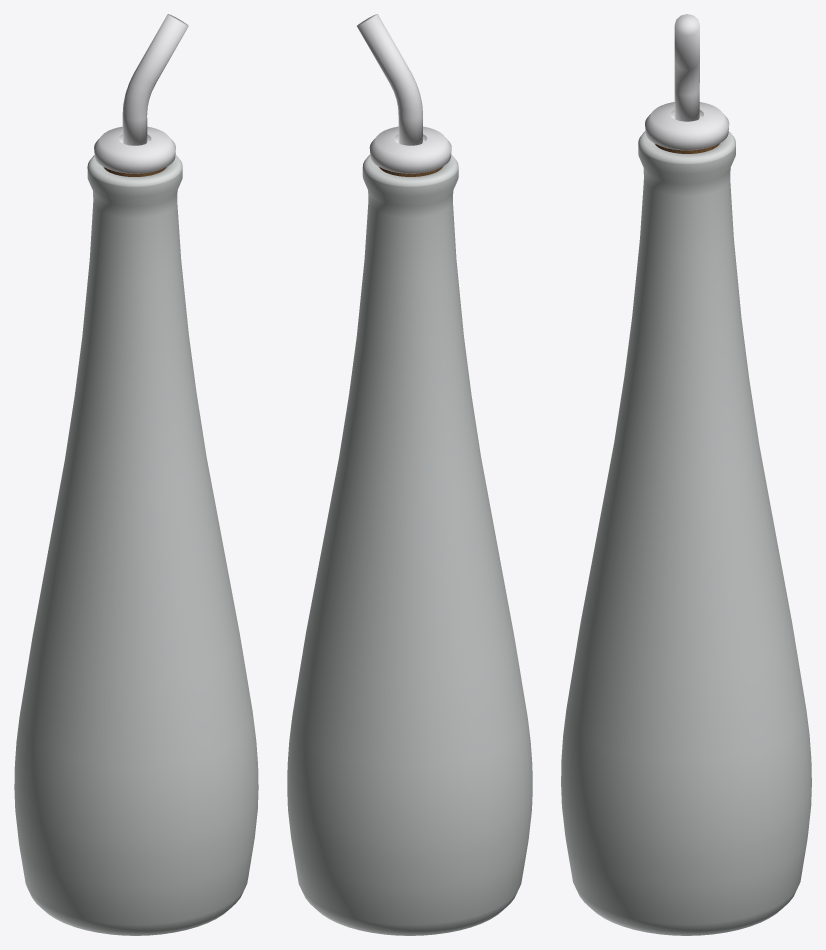
File: bottle_cruet.glb
3 views of the same model, side by side, from view 1: azimuth 30°, elevation 25°; view 2: azimuth 150°, elevation 25°; view 3: azimuth 270°, elevation 25° (orthographic). The views are drawn at different scales.
Visible parts, largest first — view 1: Glass, Cap; view 2: Glass, Cap; view 3: Glass, Cap.
Boxes of the visible parts, x1=… form: Glass: x1=14, y1=154, x2=258, y2=935; Cap: x1=94, y1=14, x2=188, y2=176; Glass: x1=287, y1=154, x2=532, y2=935; Cap: x1=357, y1=14, x2=451, y2=176; Glass: x1=561, y1=131, x2=811, y2=935; Cap: x1=645, y1=14, x2=729, y2=153.
Size of the model in its own units: 0.066 by 0.2588 by 0.0655.
5 materials, 1 textured.
